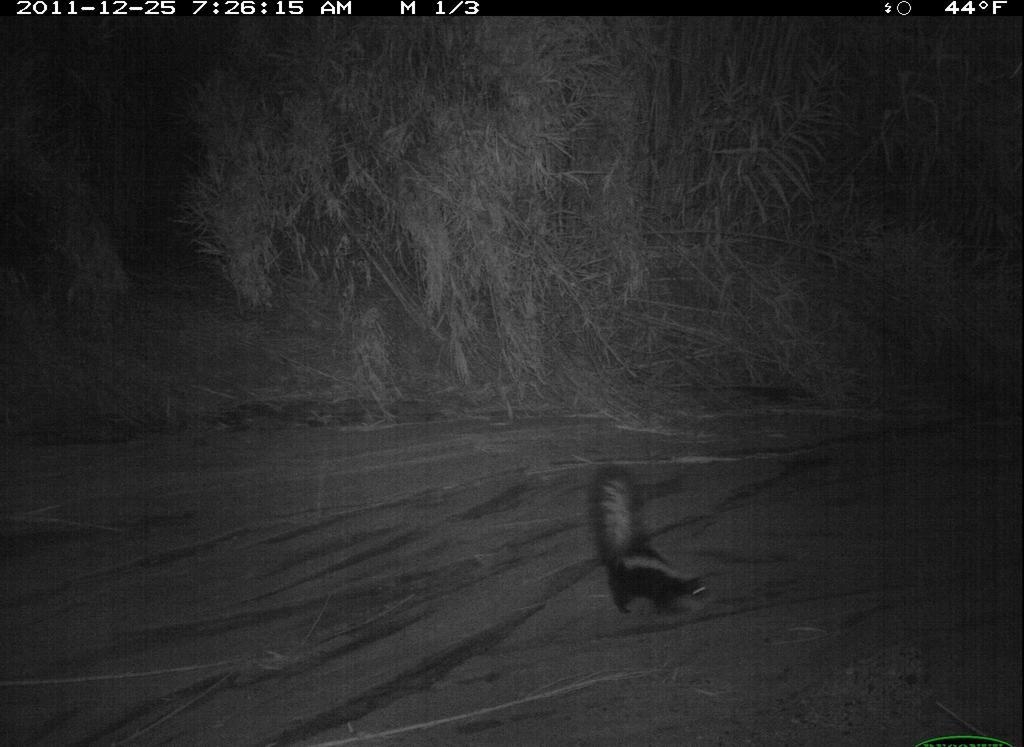skunk: (589, 459, 719, 621)
